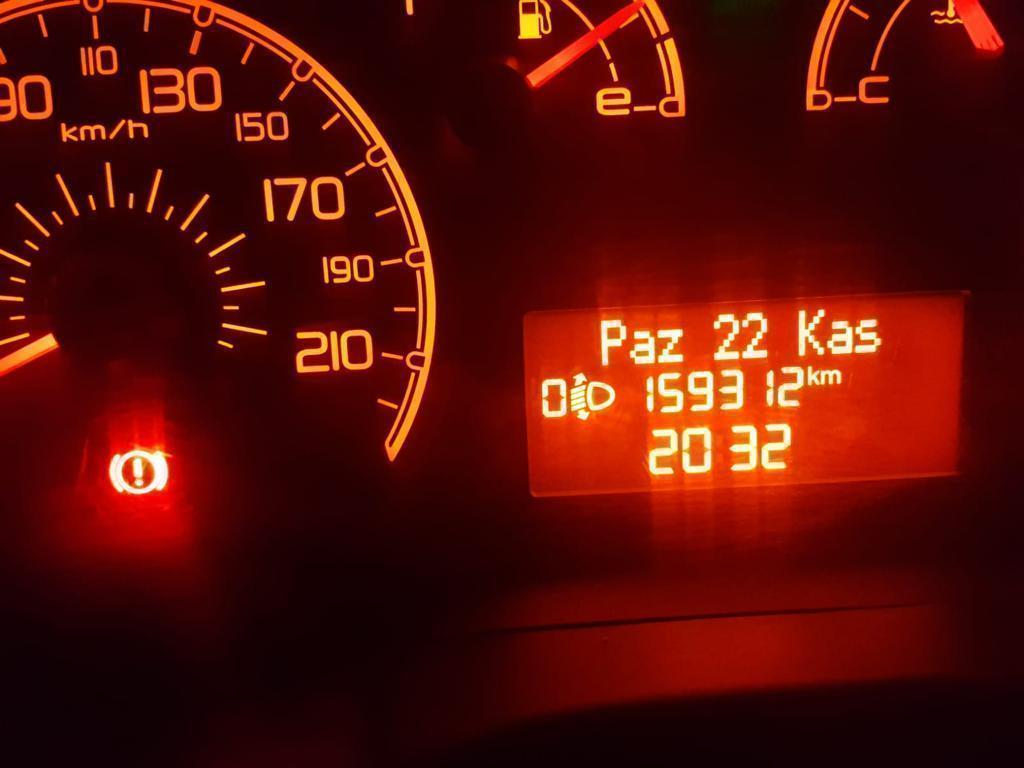0: (681, 426, 713, 475), (539, 377, 568, 418)
1: (643, 374, 656, 412), (763, 368, 775, 407)
2: (759, 423, 793, 470), (646, 428, 679, 476), (740, 311, 770, 359), (711, 312, 740, 361), (777, 366, 803, 408)
3: (728, 424, 759, 472), (717, 368, 745, 411)
5: (656, 371, 686, 413)
9: (686, 370, 715, 412)
X: (795, 307, 825, 357), (599, 318, 628, 367), (852, 318, 882, 355), (655, 328, 686, 363), (629, 329, 656, 365), (826, 319, 853, 355), (820, 368, 843, 385), (806, 365, 820, 386)
odometer: (517, 287, 973, 505)
